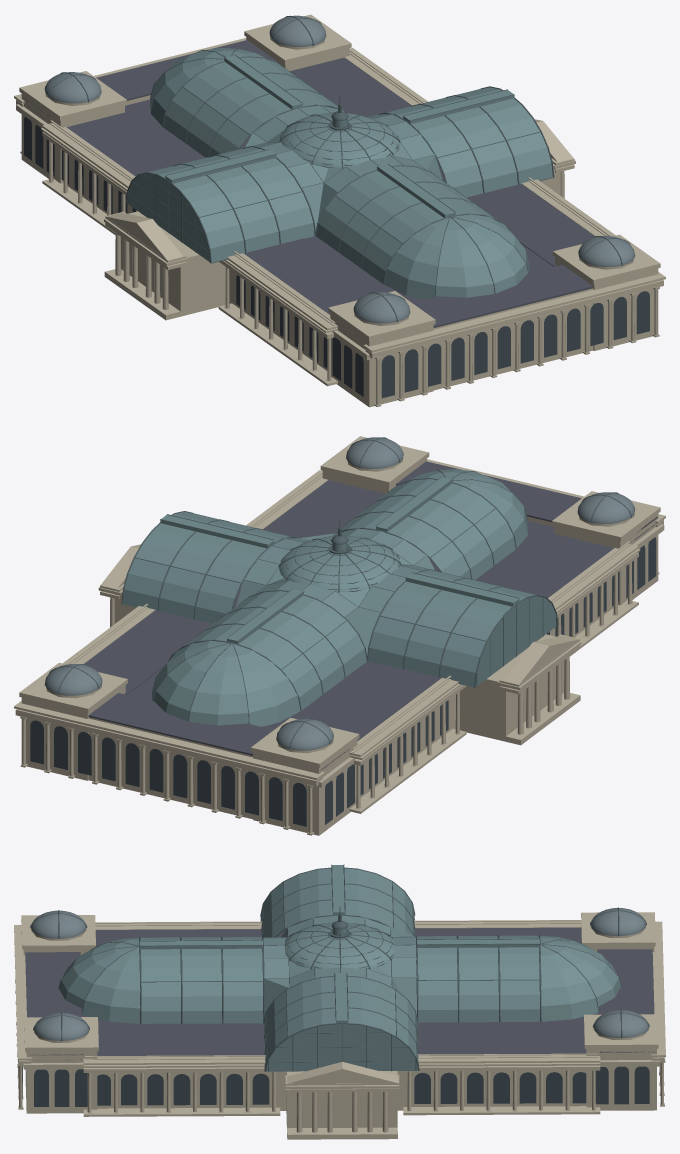
Rendered from paris-grand-palais-far.glb.
The picture shows the model from 3 angles, top to bottom: view 1: azimuth 30°, elevation 25°; view 2: azimuth 150°, elevation 25°; view 3: azimuth 270°, elevation 25°; orthographic projection. The views are drawn at different scales.
Parts seen in each view (by area): view 1: paris-grand-palais-glass, paris-grand-palais-stone, paris-grand-palais-roof, paris-grand-palais-shadow, paris-grand-palais-iron, paris-grand-palais-roofLight; view 2: paris-grand-palais-glass, paris-grand-palais-stone, paris-grand-palais-roof, paris-grand-palais-shadow, paris-grand-palais-iron, paris-grand-palais-roofLight; view 3: paris-grand-palais-glass, paris-grand-palais-stone, paris-grand-palais-roof, paris-grand-palais-shadow, paris-grand-palais-iron, paris-grand-palais-roofLight.
Part boxes in pixels (bbox=[...]): paris-grand-palais-glass: bbox=[126, 48, 552, 299]; paris-grand-palais-stone: bbox=[14, 14, 665, 407]; paris-grand-palais-roof: bbox=[23, 40, 594, 327]; paris-grand-palais-shadow: bbox=[24, 117, 649, 398]; paris-grand-palais-iron: bbox=[48, 15, 630, 322]; paris-grand-palais-roofLight: bbox=[44, 15, 635, 323]; paris-grand-palais-glass: bbox=[123, 469, 557, 726]; paris-grand-palais-stone: bbox=[14, 436, 665, 835]; paris-grand-palais-roof: bbox=[84, 461, 657, 771]; paris-grand-palais-shadow: bbox=[30, 537, 656, 826]; paris-grand-palais-iron: bbox=[49, 437, 631, 749]; paris-grand-palais-roofLight: bbox=[44, 437, 635, 750]; paris-grand-palais-glass: bbox=[59, 865, 620, 1071]; paris-grand-palais-stone: bbox=[14, 912, 665, 1139]; paris-grand-palais-roof: bbox=[25, 927, 654, 1060]; paris-grand-palais-shadow: bbox=[22, 1066, 659, 1106]; paris-grand-palais-iron: bbox=[30, 864, 649, 1071]; paris-grand-palais-roofLight: bbox=[31, 908, 648, 1040].
Bounding box in the file's own units: 166 × 58 × 246.
